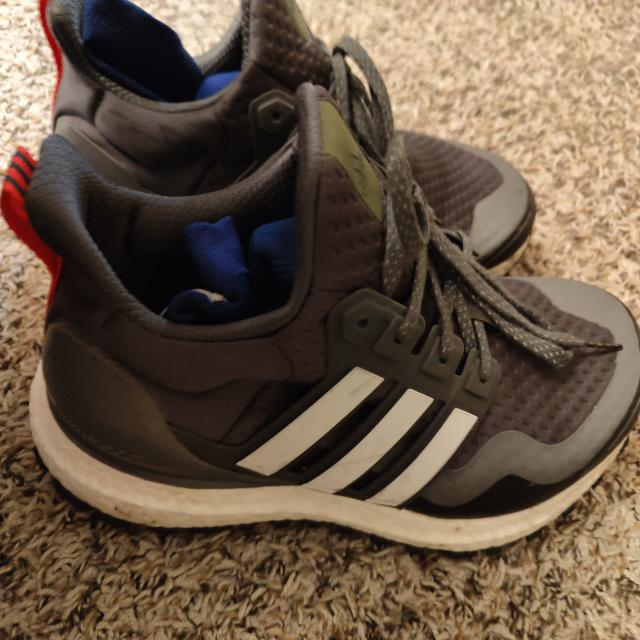black shoes: (6, 0, 638, 553)
